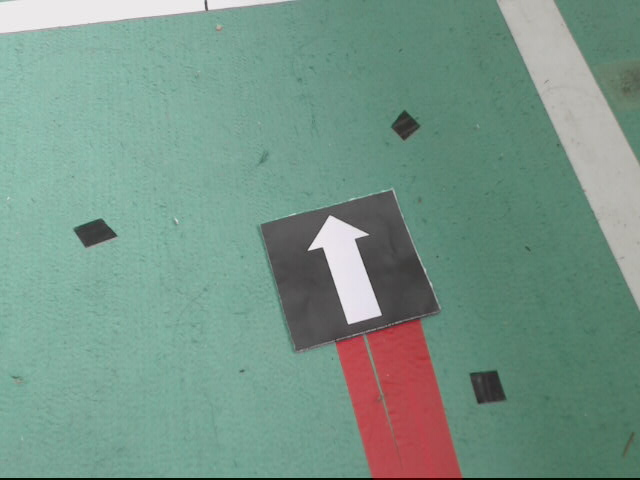straight: (257, 189, 446, 353)
